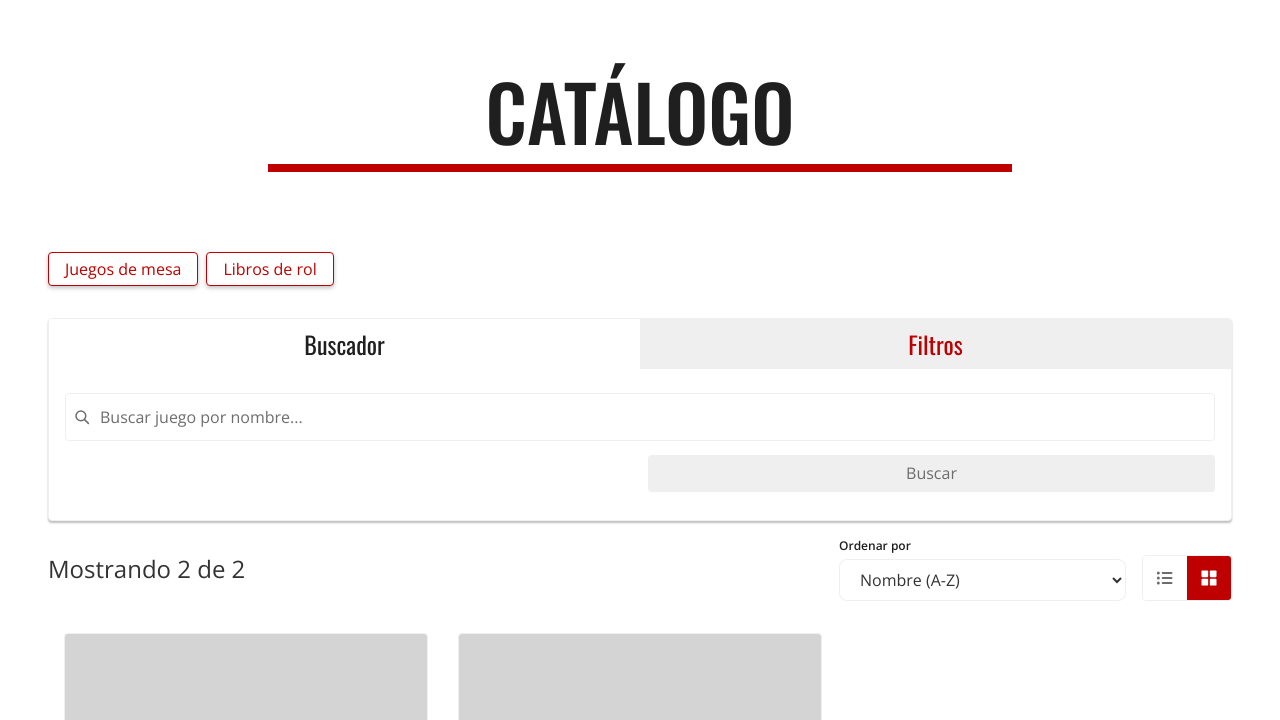
Test: CatalogPage filter chips › stacks one chip per active filter
Click the tab "Filtros": (936, 344) [640,319,1231,369]
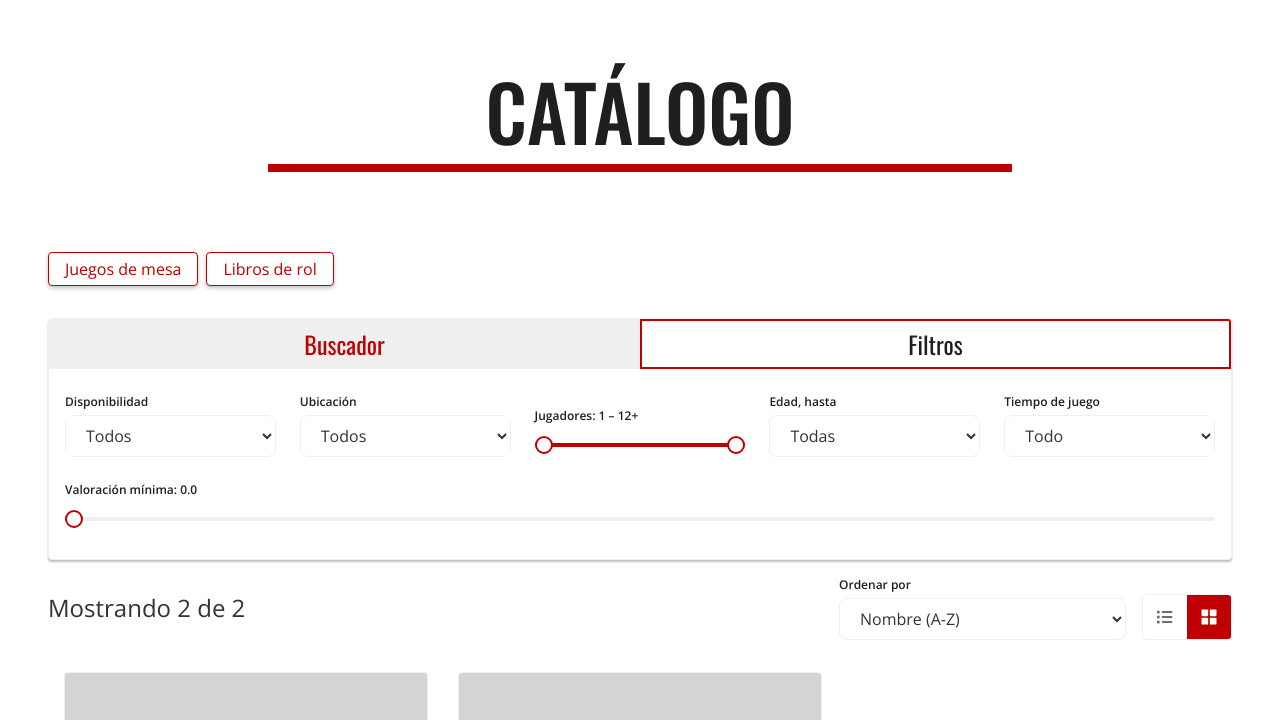
Select "Disponible" in the dropdown labelled "Disponibilidad": (170, 436) [65,415,276,457]
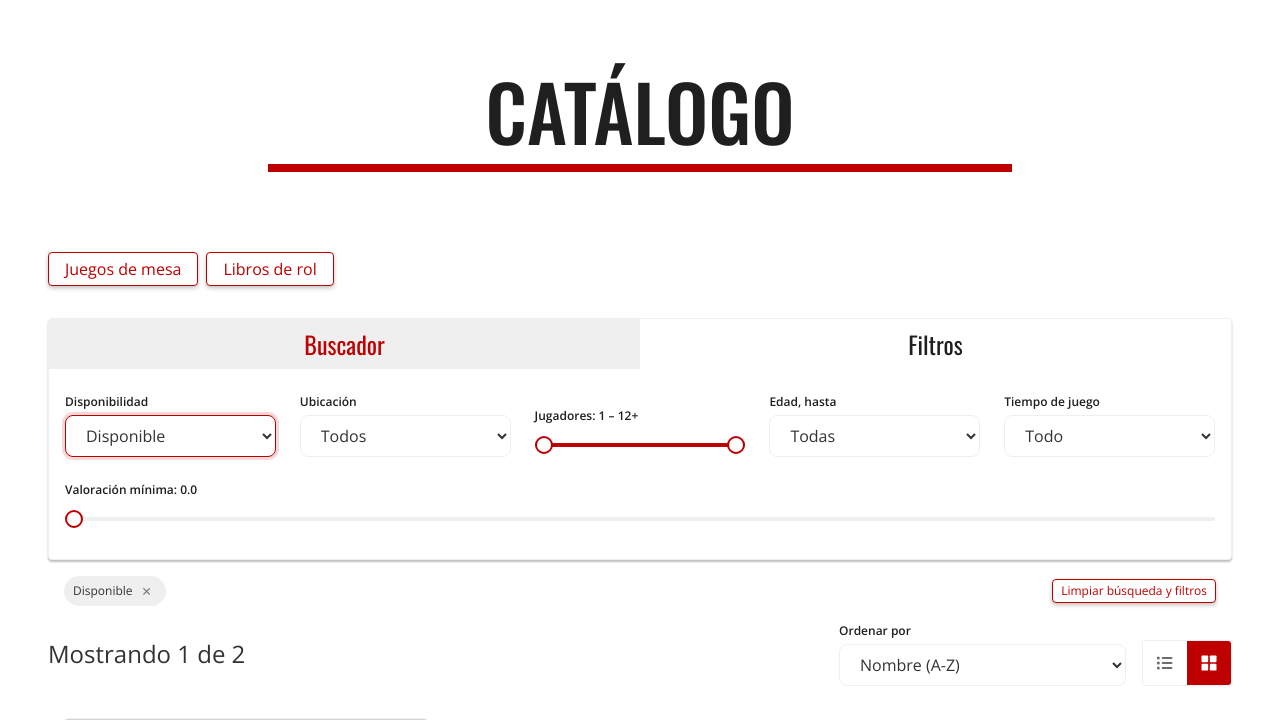
Select "Armario" in the dropdown labelled "Ubicación": (405, 436) [300,415,511,457]
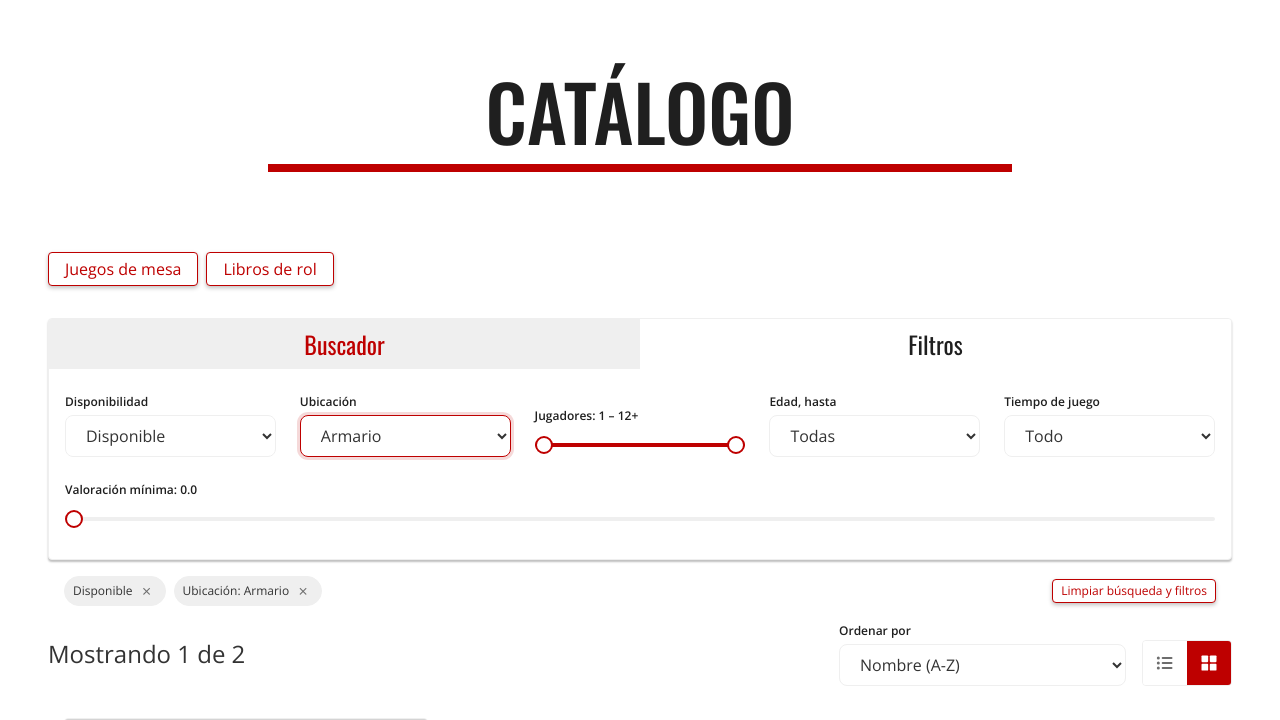
expect the number of buttons named "Quitar filtro" is 2: met, box [136,581,156,601]; [293,581,313,601]
